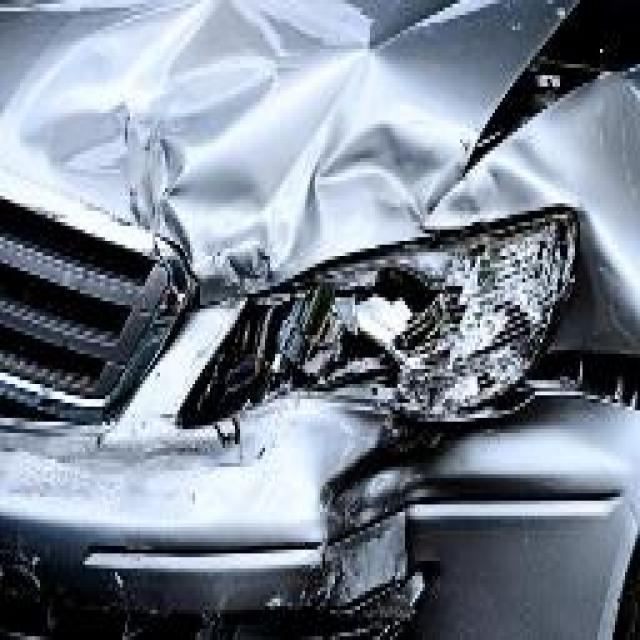Bonnet: (0, 0, 640, 284)
Bumper: (81, 396, 640, 640)
Fender: (424, 70, 640, 349)
Light: (170, 210, 575, 432)
